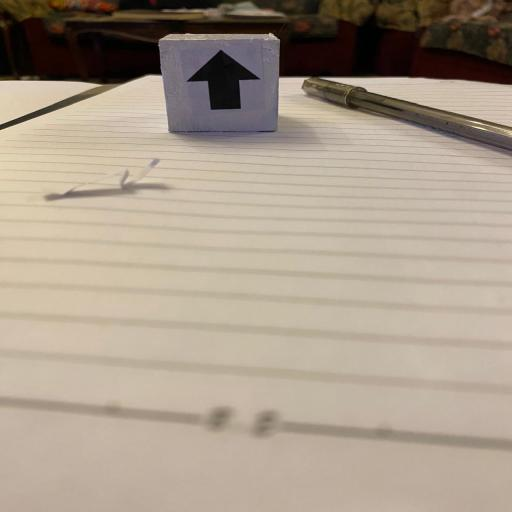Up: (157, 32, 284, 133)
